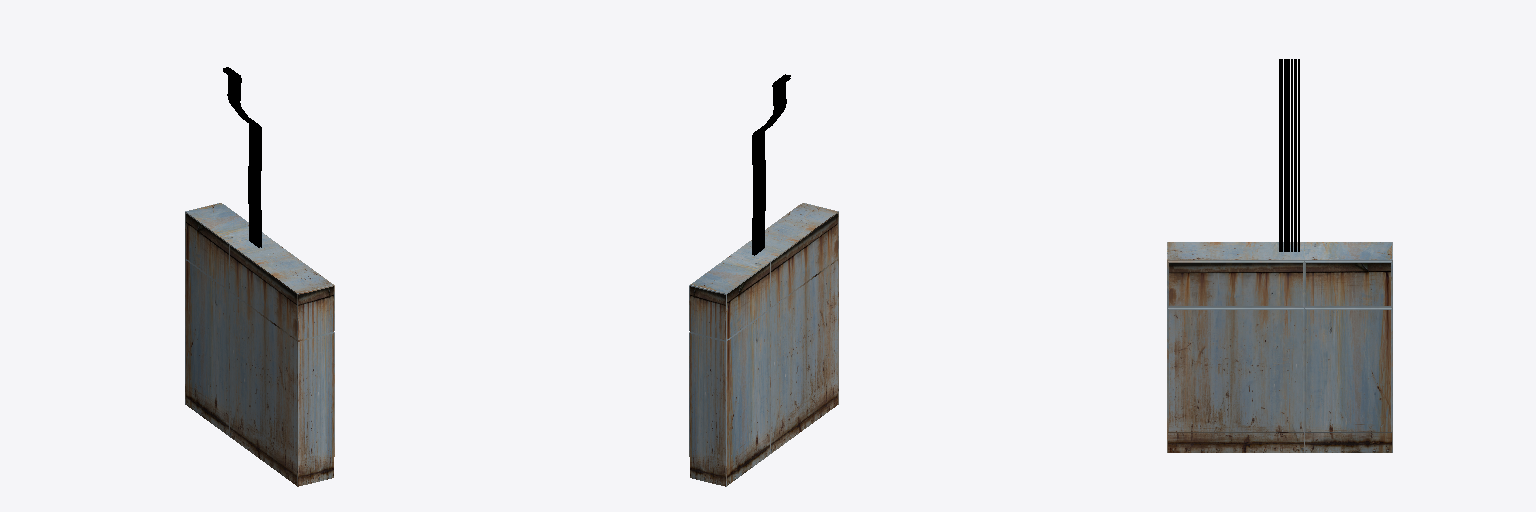
3 views of the same model, side by side, from view 1: azimuth 30°, elevation 25°; view 2: azimuth 150°, elevation 25°; view 3: azimuth 270°, elevation 25° (orthographic).
Visible parts, largest first — view 1: plantaEnergia; view 2: plantaEnergia; view 3: plantaEnergia.
Part boxes in pixels (x1,y1,x2,y2): plantaEnergia: (185,67,334,486); plantaEnergia: (689,74,838,486); plantaEnergia: (1167,59,1392,452).
Size of the model in its own units: 1.22 by 9.28 by 5.1.
2 materials, 1 textured.